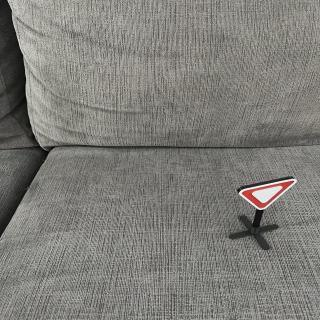sign_yield: (237, 174, 300, 213)
